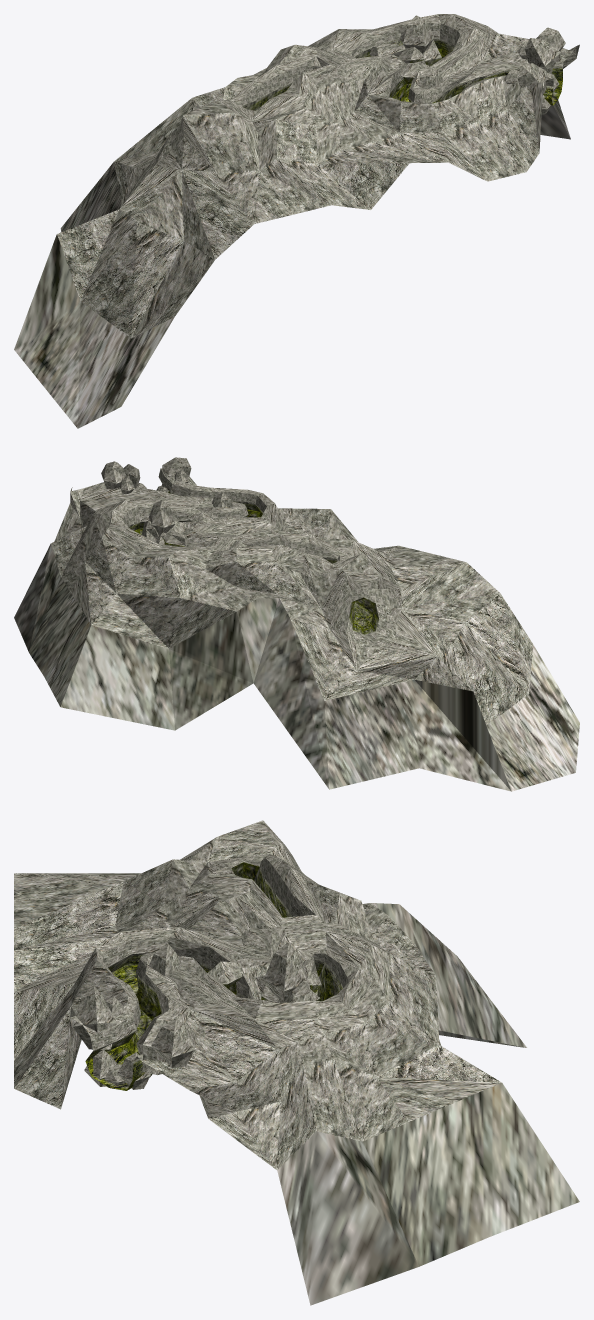
The model's file is p69_rocks.obj.
3 renders of one model, top to bottom at view 1: azimuth 30°, elevation 25°; view 2: azimuth 150°, elevation 25°; view 3: azimuth 270°, elevation 25°, orthographic. The views are drawn at different scales.
Visible parts, largest first — view 1: p69_rocks; view 2: p69_rocks; view 3: p69_rocks.
Part boxes in pixels (<box>): p69_rocks: <box>14,14,579,428</box>; p69_rocks: <box>14,457,579,791</box>; p69_rocks: <box>14,820,579,1305</box>.
Bounding box in the file's own units: 171 × 75.75 × 101.
3 materials, 3 textured.
